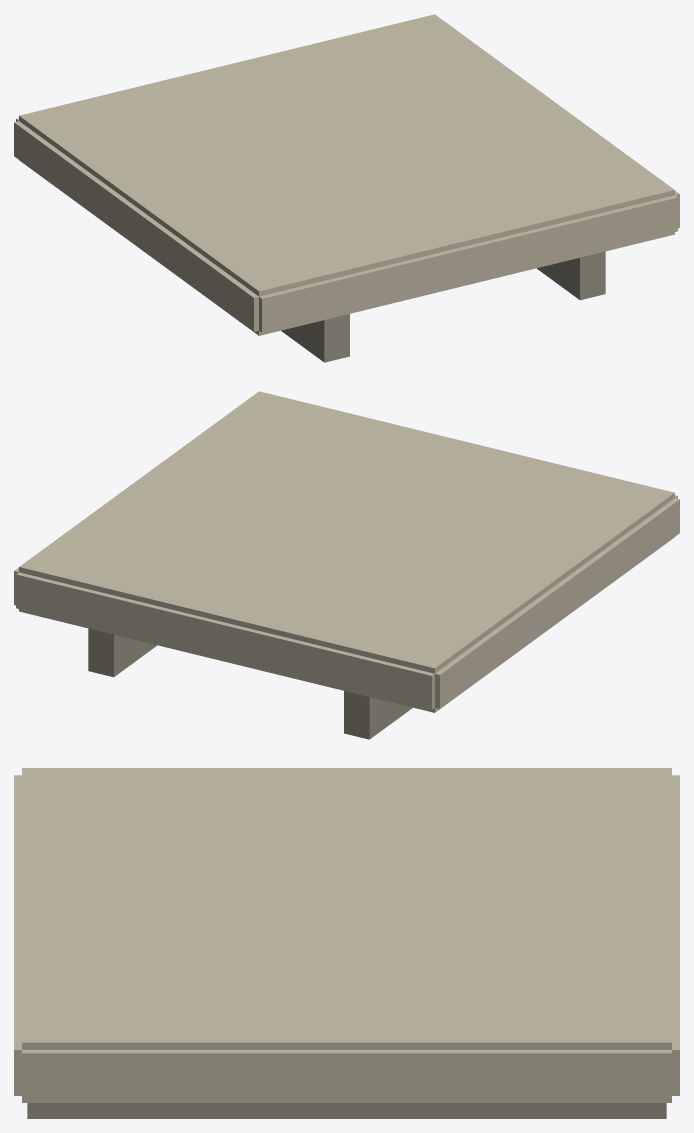
File: bone_platform_v0.glb
3 renders of one model, top to bottom at view 1: azimuth 30°, elevation 25°; view 2: azimuth 150°, elevation 25°; view 3: azimuth 270°, elevation 25°, orthographic. The views are drawn at different scales.
Visible parts, largest first — view 1: bone_platform_v0; view 2: bone_platform_v0; view 3: bone_platform_v0.
Part boxes in pixels (bbox=[...]): bone_platform_v0: bbox=[14, 14, 679, 362]; bone_platform_v0: bbox=[14, 391, 679, 739]; bone_platform_v0: bbox=[14, 768, 679, 1118].
Size of the model in its own units: 1 by 0.2 by 1.
